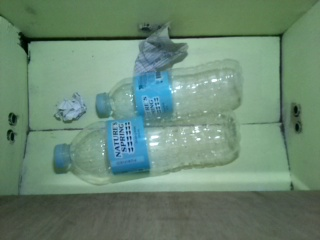bottle: (51, 110, 241, 184), (95, 57, 246, 121)
paper: (134, 23, 188, 73), (54, 91, 89, 123)
